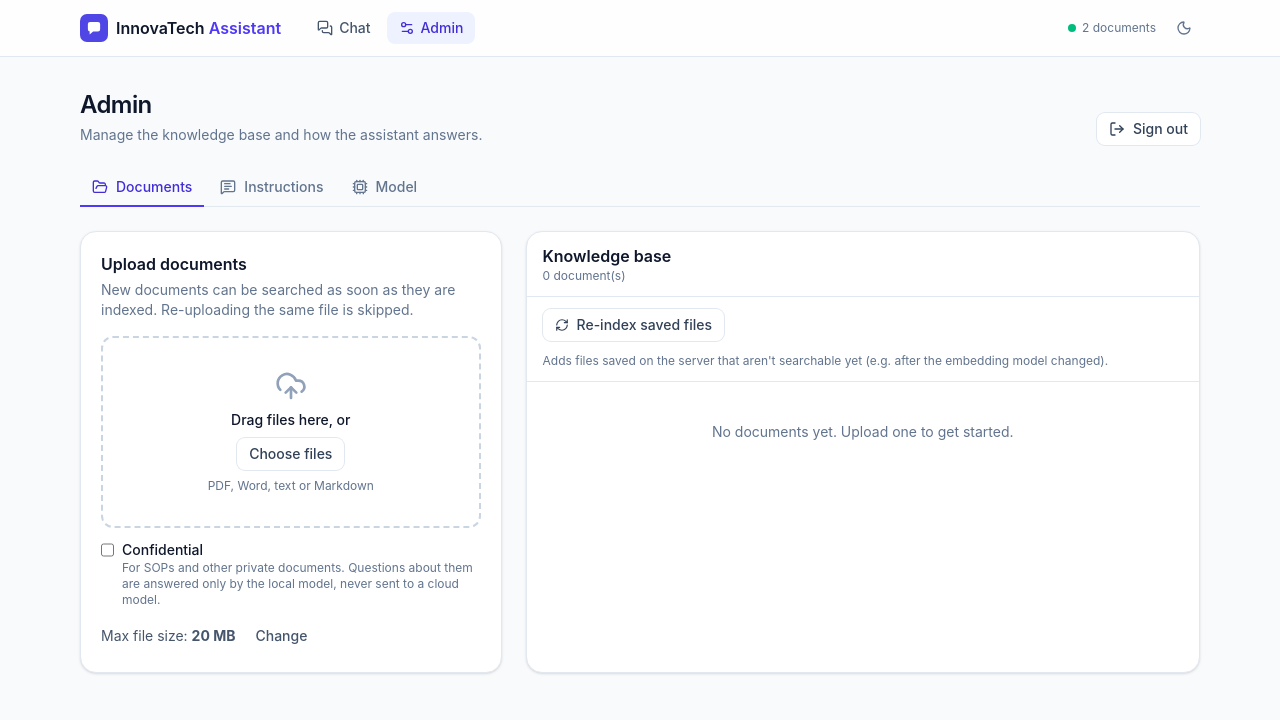
it: Upload size limit › shows the current limit and changes it
The image size is (1280, 720).
Expected: the text "20 MB" is shown, [192,627,236,644]
Click the button "Change" at (282, 636), box [244,620,320,652]
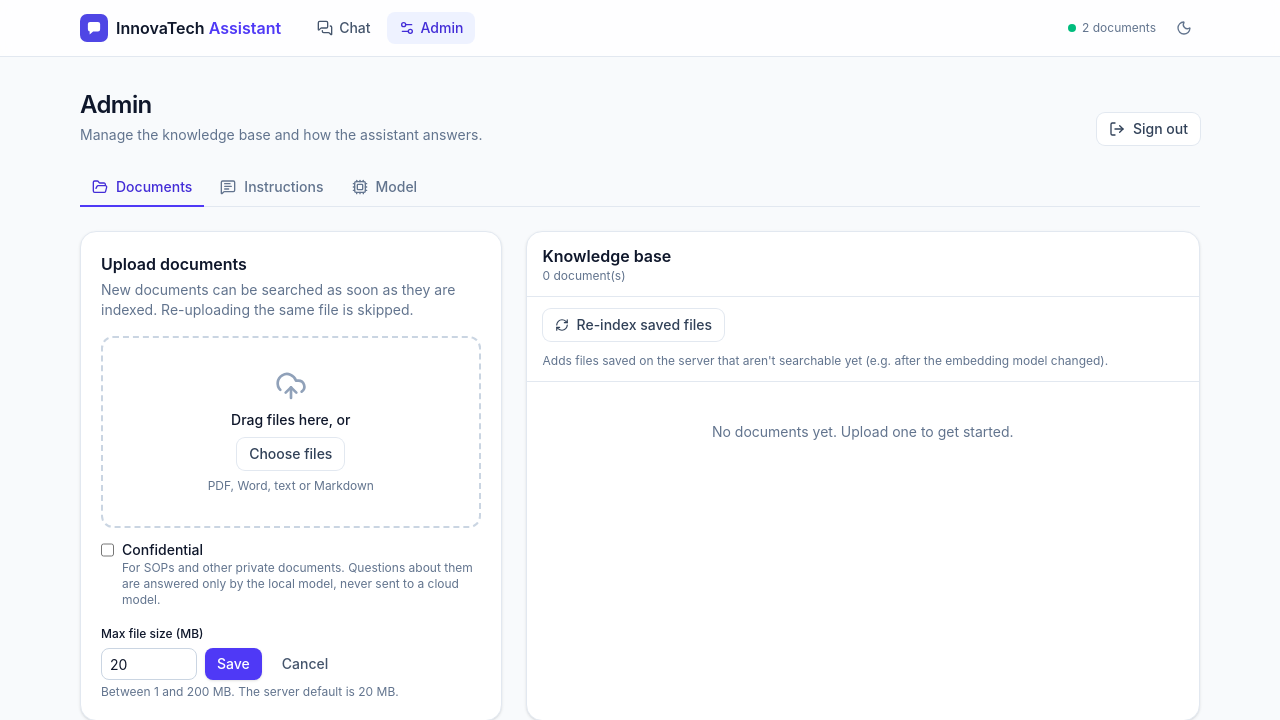
Expected: the text "Between 1 and 200 MB. The server default is 20 MB." is shown, [101,684,399,699]
Replace the text in the number field labelled "Max file size (MB)" with "50" at (149, 664), box [101,648,197,680]
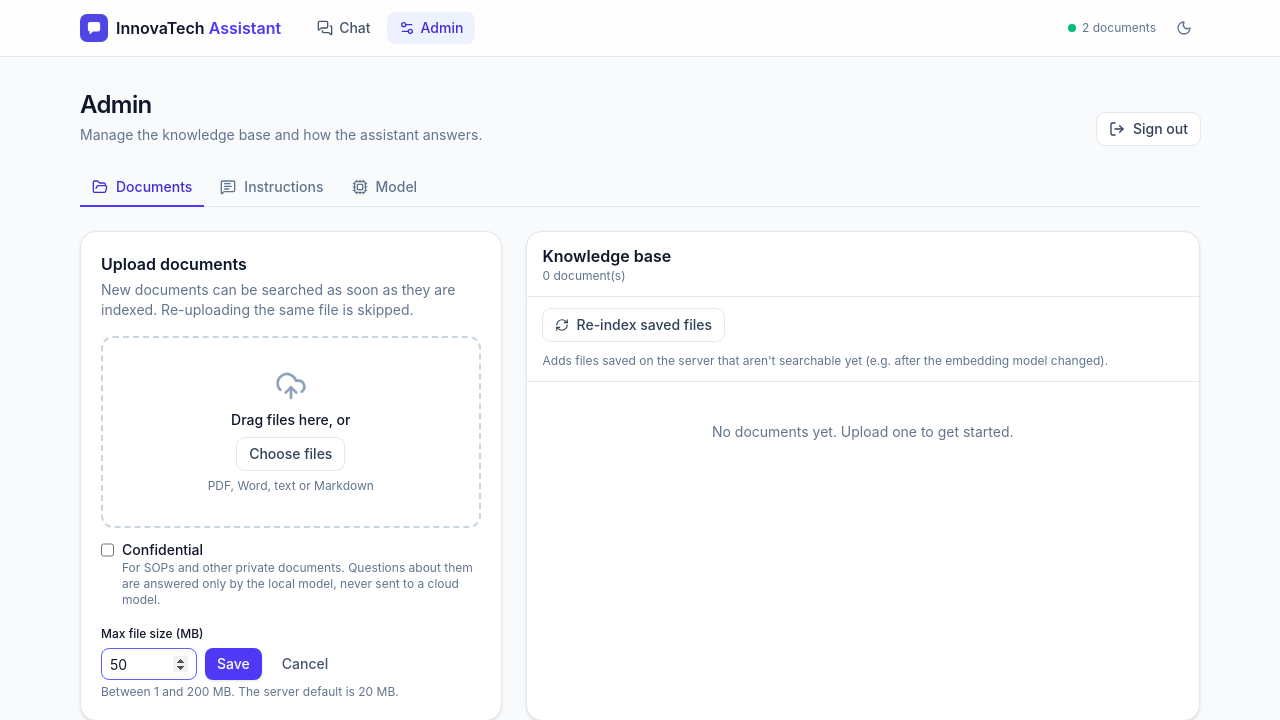
Click the button "Save" at (233, 664), box [205,648,262,680]
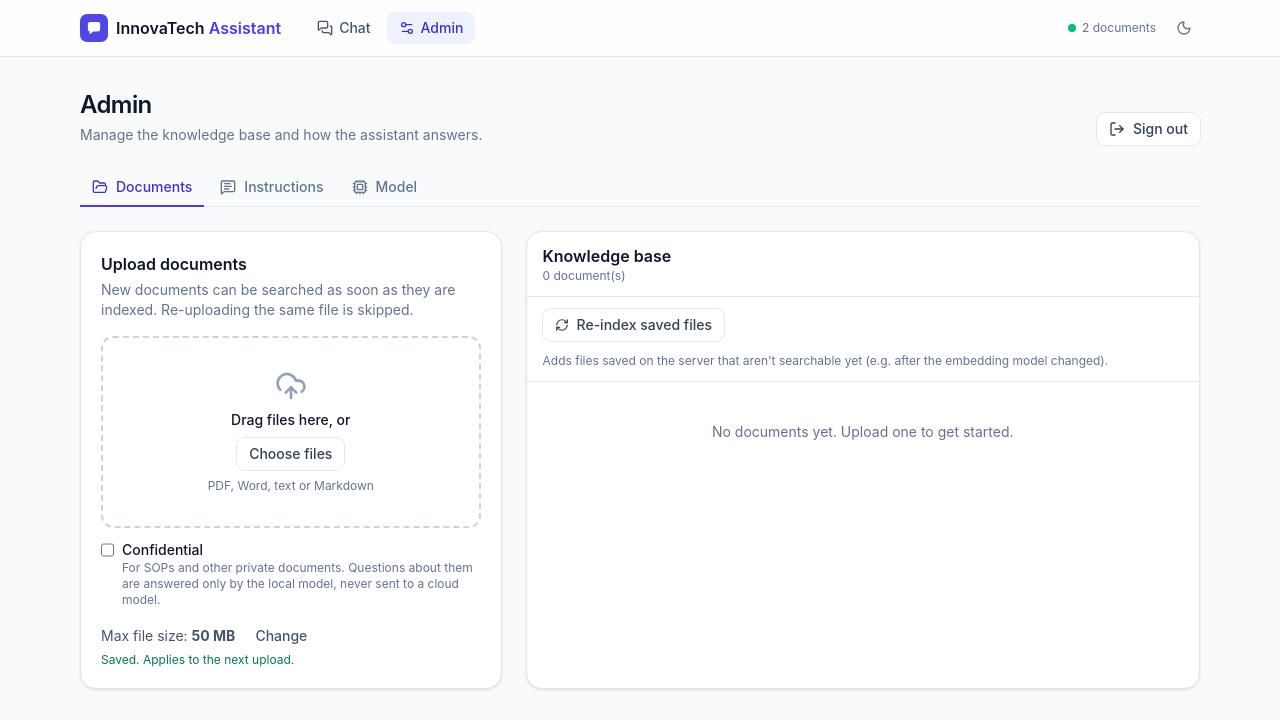
Expected: the text "50 MB" is shown, [192,627,235,644]
Expected: the text "Saved. Applies to the next upload." is shown, [101,652,294,667]
